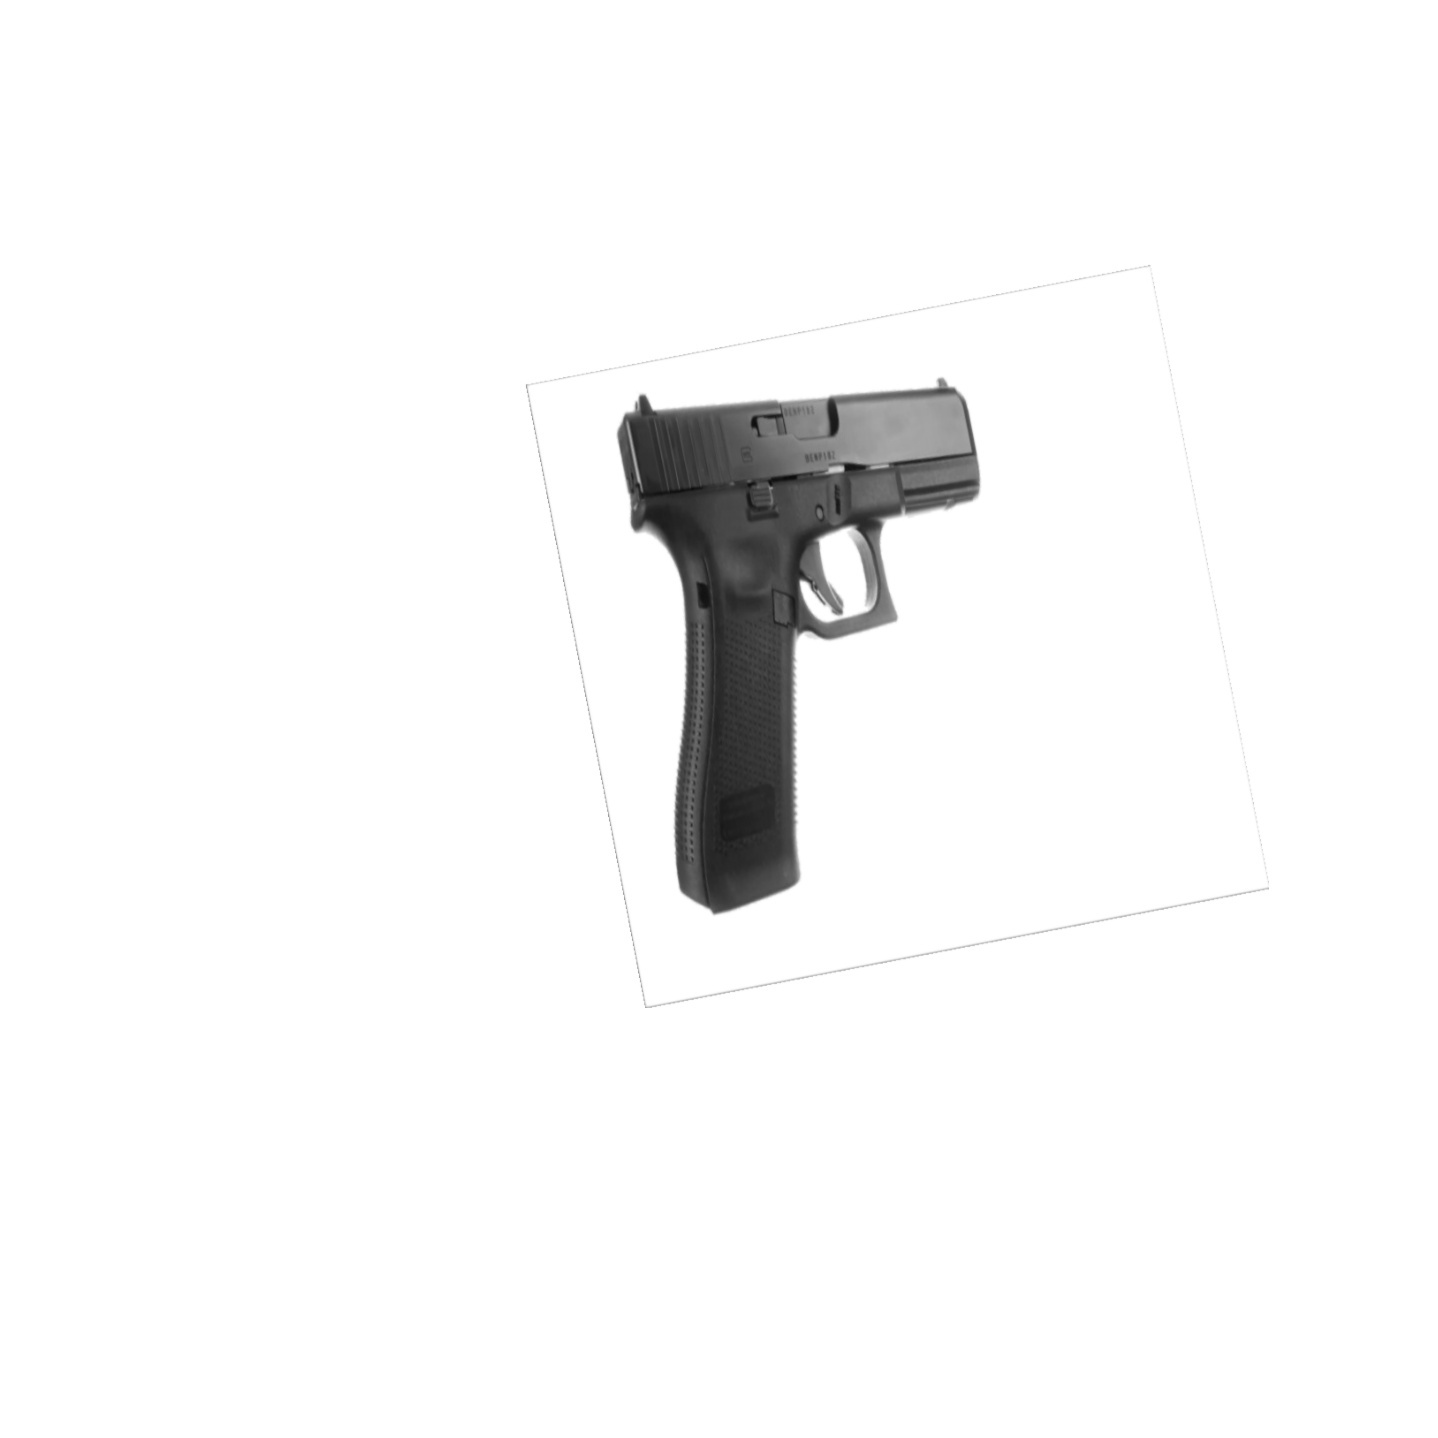gun: (616, 378, 982, 915)
